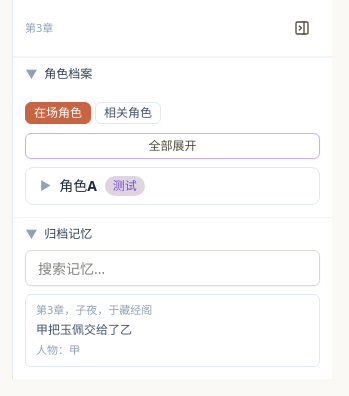
Test case: SandboxCharacterPanel 归档记忆分组 › 归档记忆分组的折叠不影响角色 tab 分组
Expected: the text "甲把玉佩交给了乙" is shown, [36, 321, 132, 338]
Click the button "▶ 归档记忆".
click(68, 234)  # box [13, 218, 332, 250]
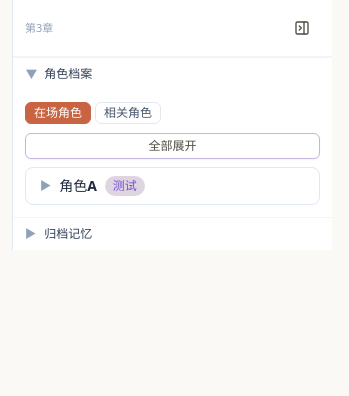
Expected: the text "角色A" is shown, [59, 176, 97, 196]
Expected: the button "甲把玉佩交给了乙" is gone
